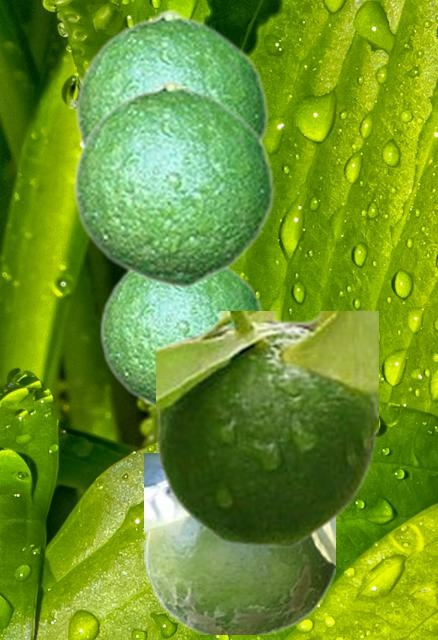dalandan: (156, 311, 377, 546), (71, 78, 274, 288), (144, 453, 334, 633), (73, 8, 268, 147), (98, 267, 265, 410)
